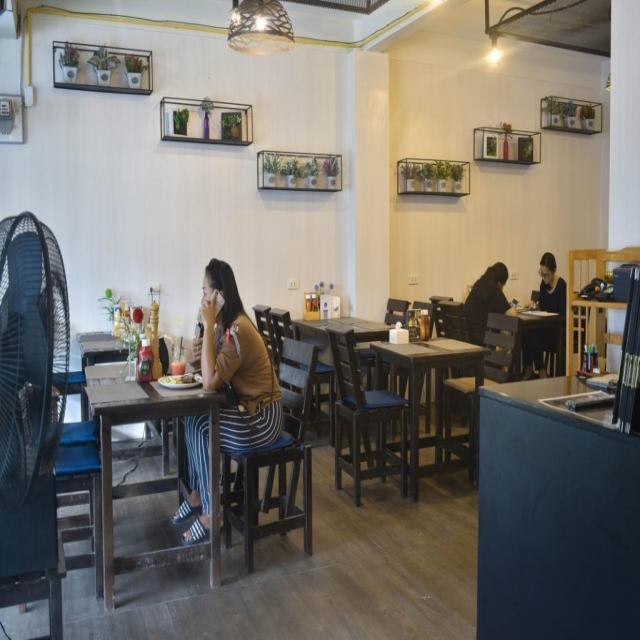table: (78, 339, 224, 432), (364, 319, 492, 386), (287, 293, 406, 360)
